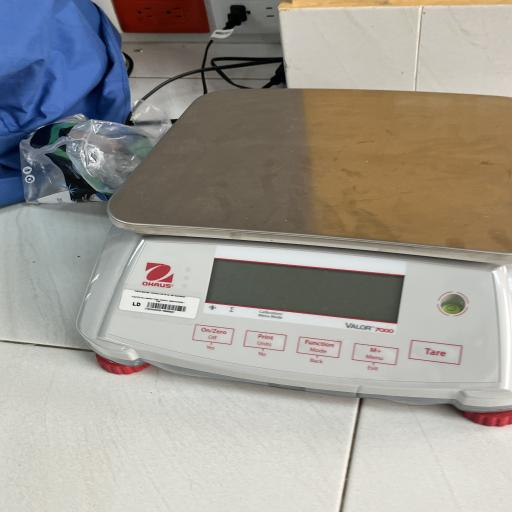Balanza_Granataria_Ohaus: (70, 75, 512, 427)
